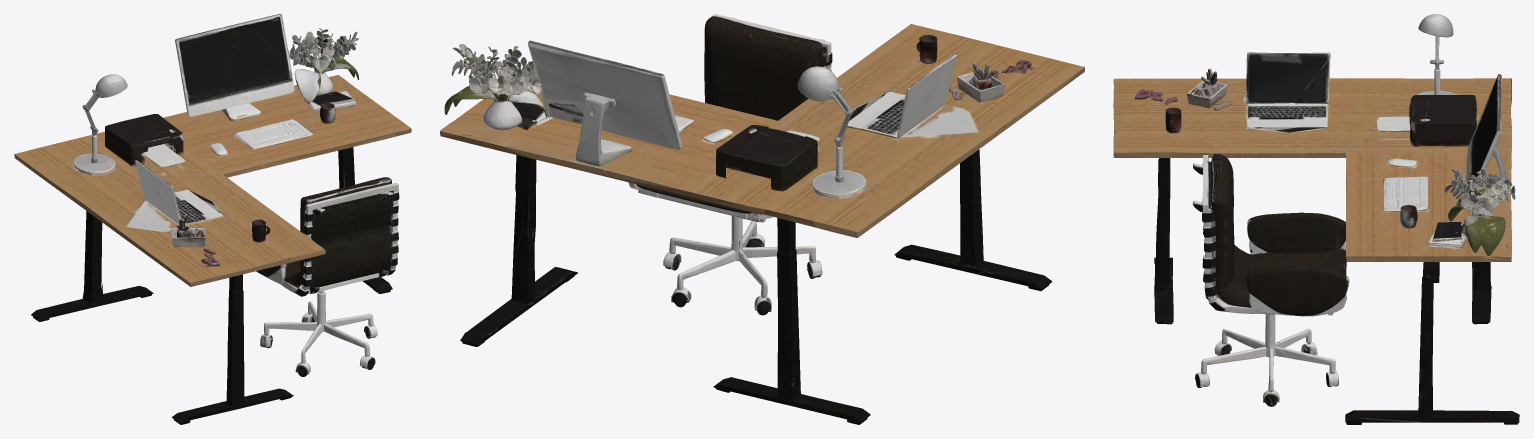
Rendered from staples-com-flexispot-e7-76-w-l-shaped-adjustable-standing-d-ef310e.glb.
3 renders of one model, left to right at view 1: azimuth 30°, elevation 25°; view 2: azimuth 150°, elevation 25°; view 3: azimuth 270°, elevation 25°, orthographic. The views are drawn at different scales.
Visible parts, largest first — view 1: Mesh_0; view 2: Mesh_0; view 3: Mesh_0.
Boxes of the visible parts, x1=… form: Mesh_0: x1=14, y1=14, x2=411, y2=424; Mesh_0: x1=440, y1=14, x2=1084, y2=424; Mesh_0: x1=1113, y1=14, x2=1519, y2=424.
Size of the model in its own units: 1.9 by 1.41 by 1.8.
Materials: 1 (1 with a texture image).
